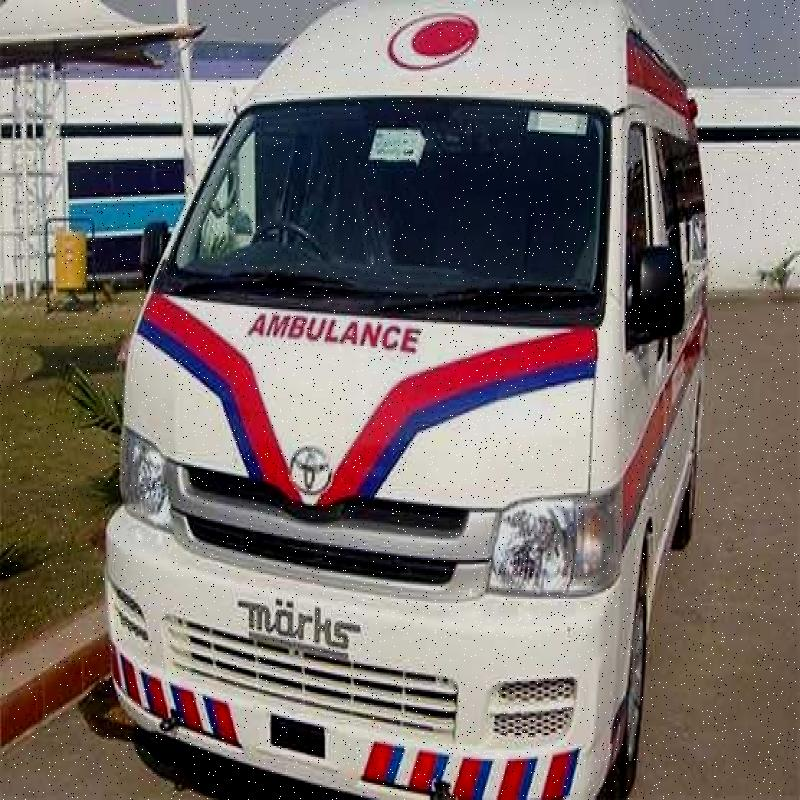ambulance: (140, 47, 739, 800)
